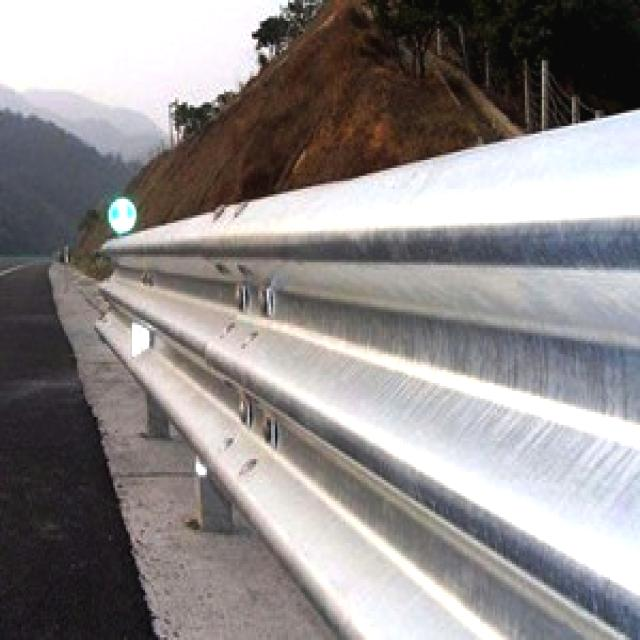Guard rail: (100, 111, 640, 639)
